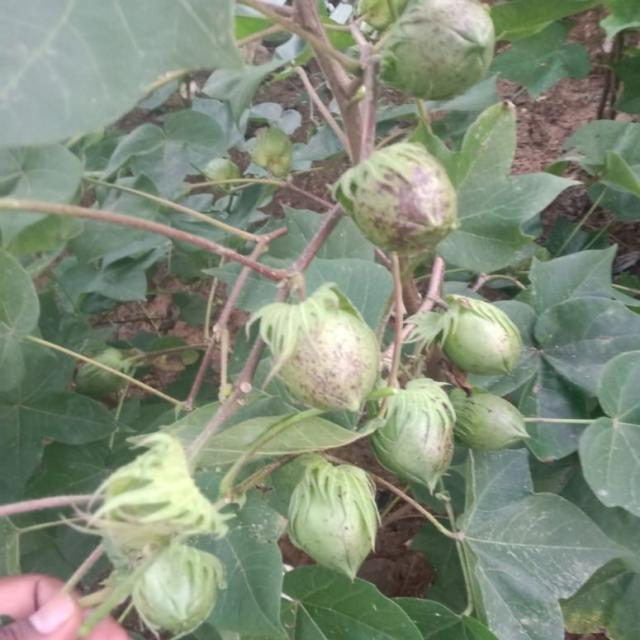Cotton Bud: (85, 432, 231, 541)
Early Boll: (329, 141, 465, 255), (283, 452, 387, 586), (372, 0, 500, 96), (374, 373, 458, 495), (430, 292, 528, 379), (125, 549, 222, 631), (450, 389, 536, 449)
